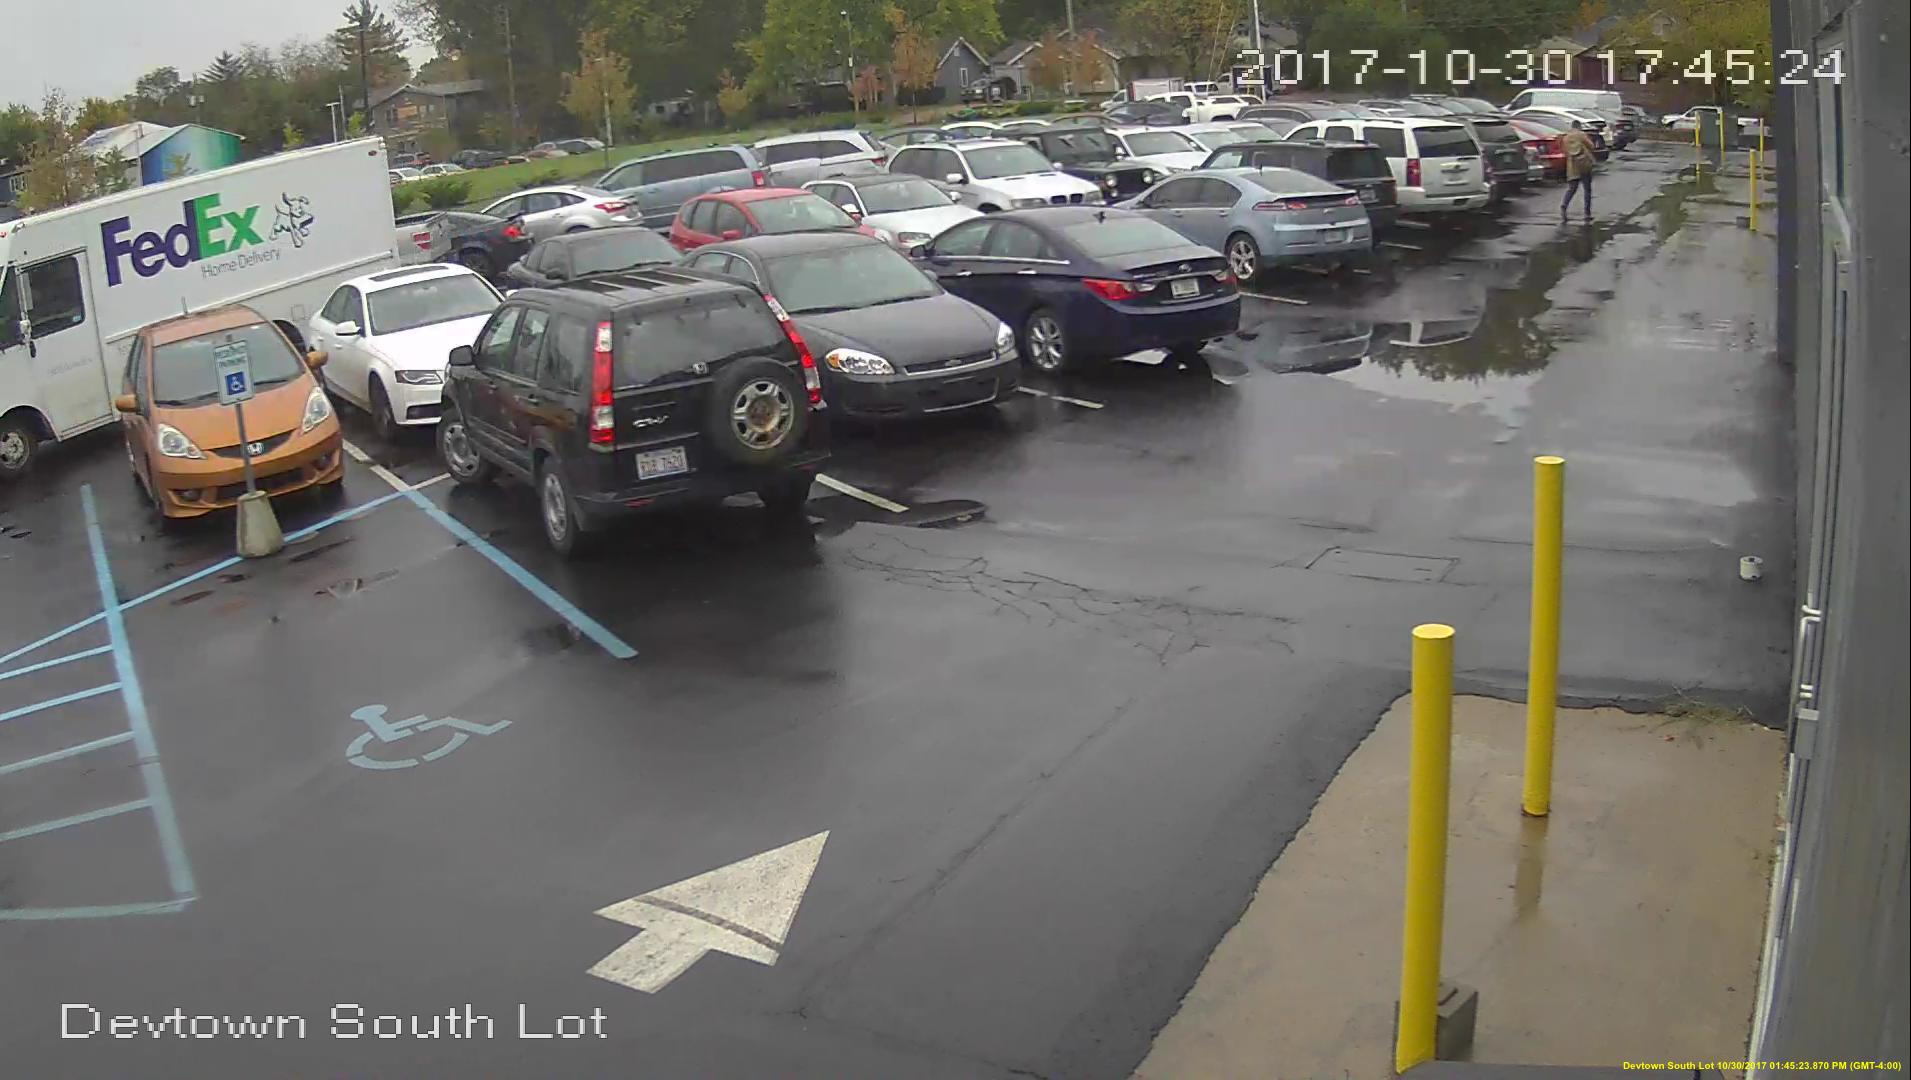fedex_truck: (1, 159, 381, 430)
